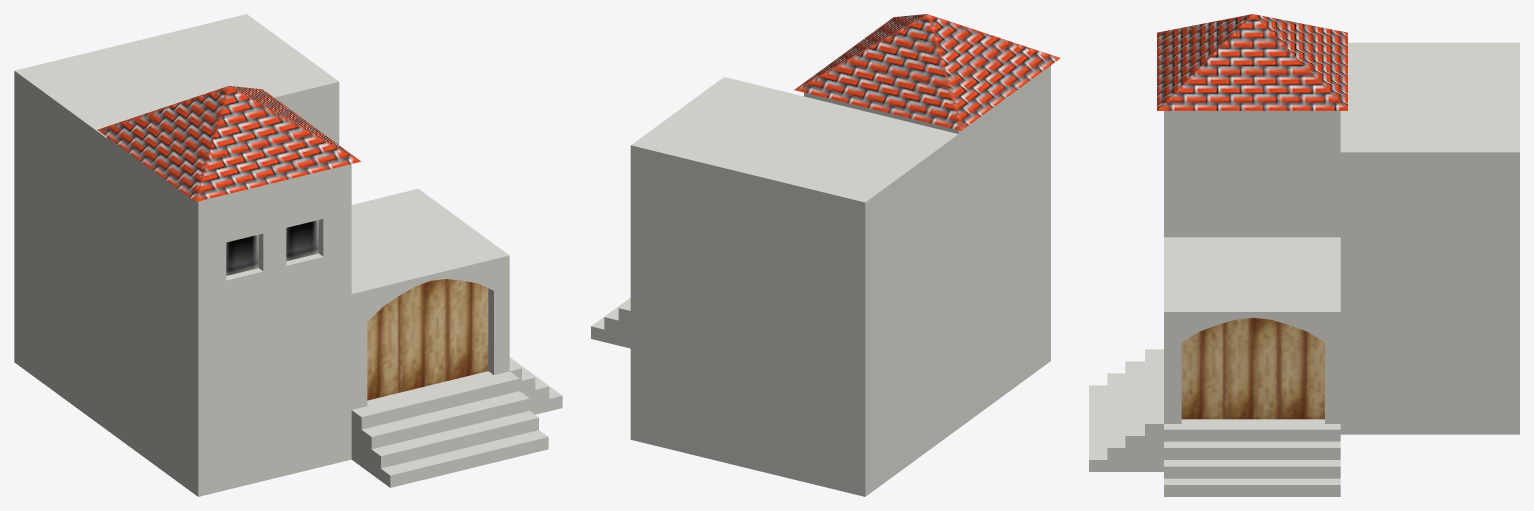
Rendered from House01.fbx.
The picture shows the model from 3 angles, left to right: view 1: azimuth 30°, elevation 25°; view 2: azimuth 150°, elevation 25°; view 3: azimuth 270°, elevation 25°; orthographic projection. The views are drawn at different scales.
Visible parts, largest first — view 1: House1; view 2: House1; view 3: House1.
Boxes of the visible parts, <box> form: House1: <box>14,14,562,496</box>; House1: <box>591,14,1060,496</box>; House1: <box>1089,14,1519,496</box>.
Size of the model in its own units: 703 by 651 by 732.
Materials: 1 (1 with a texture image).
